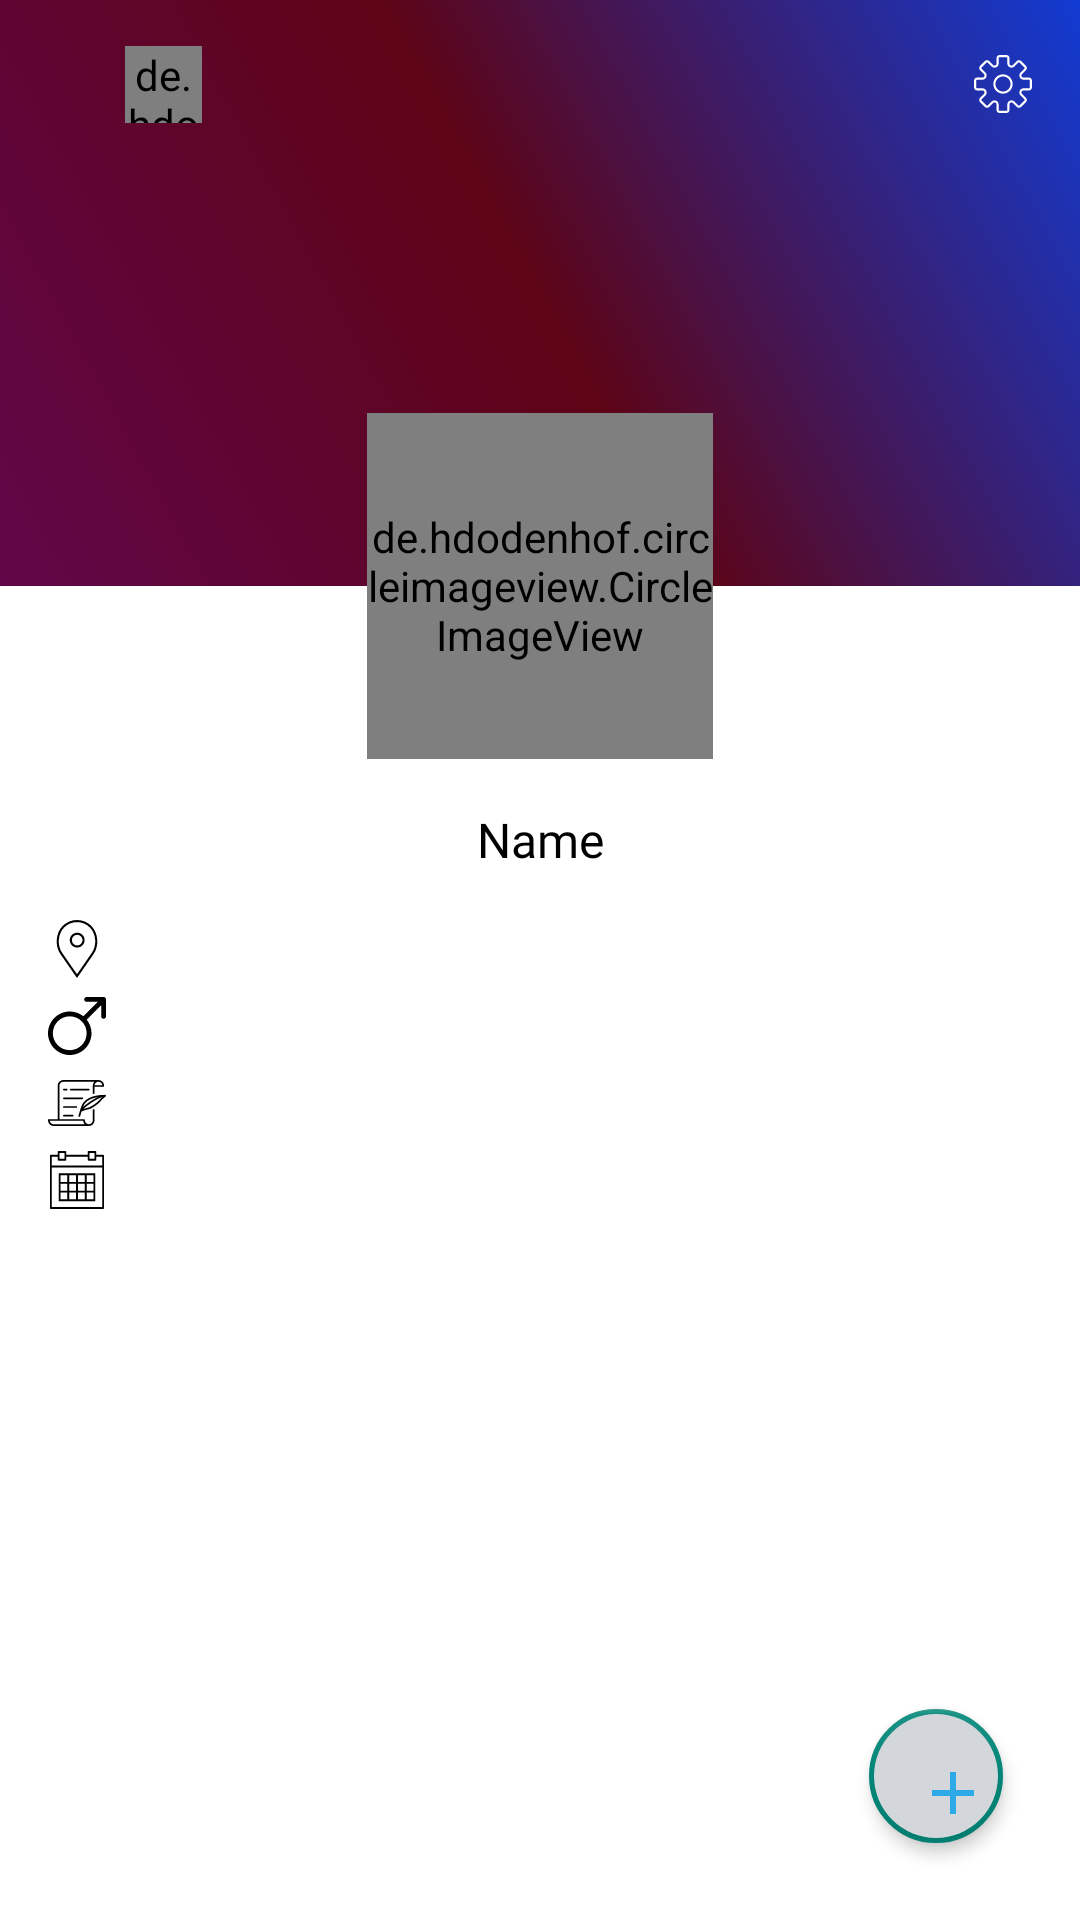

Named icons in this screenshot (1080*1920) and their bounding boxes, (x1, y1, x2, y2):
add: (869, 1709, 1003, 1843)
setting: (974, 55, 1032, 113)
